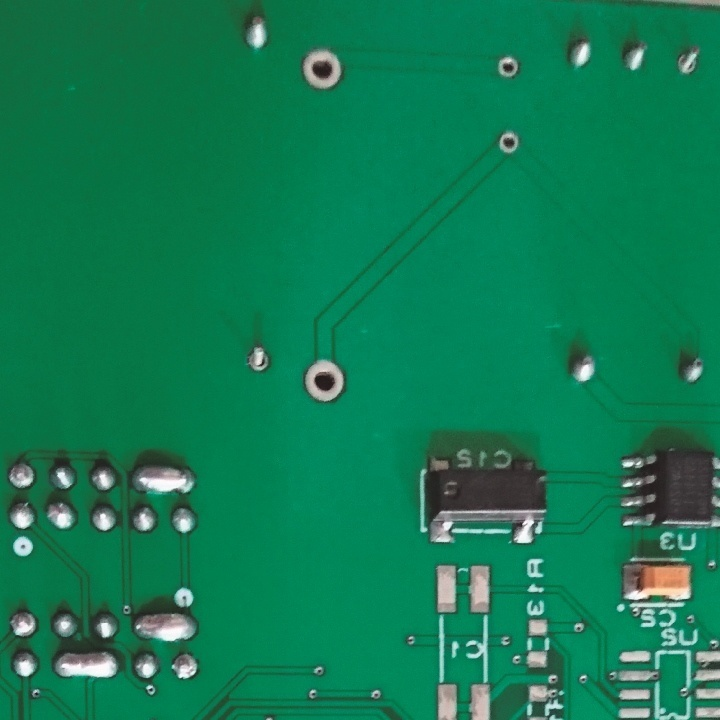F: (299, 358, 349, 406), (299, 49, 345, 91), (672, 44, 704, 79), (4, 460, 39, 492), (170, 650, 204, 682), (7, 608, 40, 640), (242, 343, 273, 373), (498, 126, 523, 154), (496, 55, 520, 81)
P: (126, 460, 199, 498), (52, 647, 120, 683), (133, 611, 203, 643)
